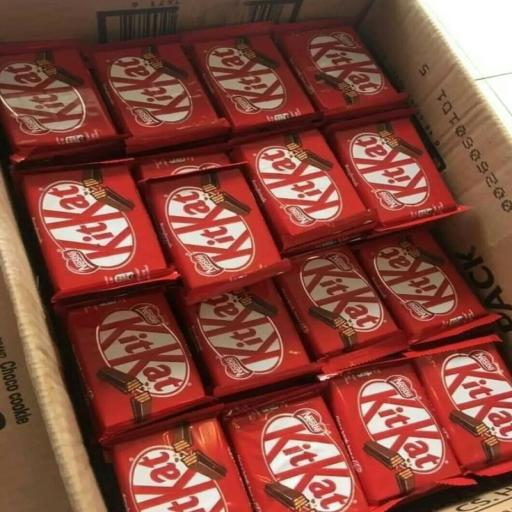kitkat: (0, 2, 141, 162), (60, 431, 270, 512)
